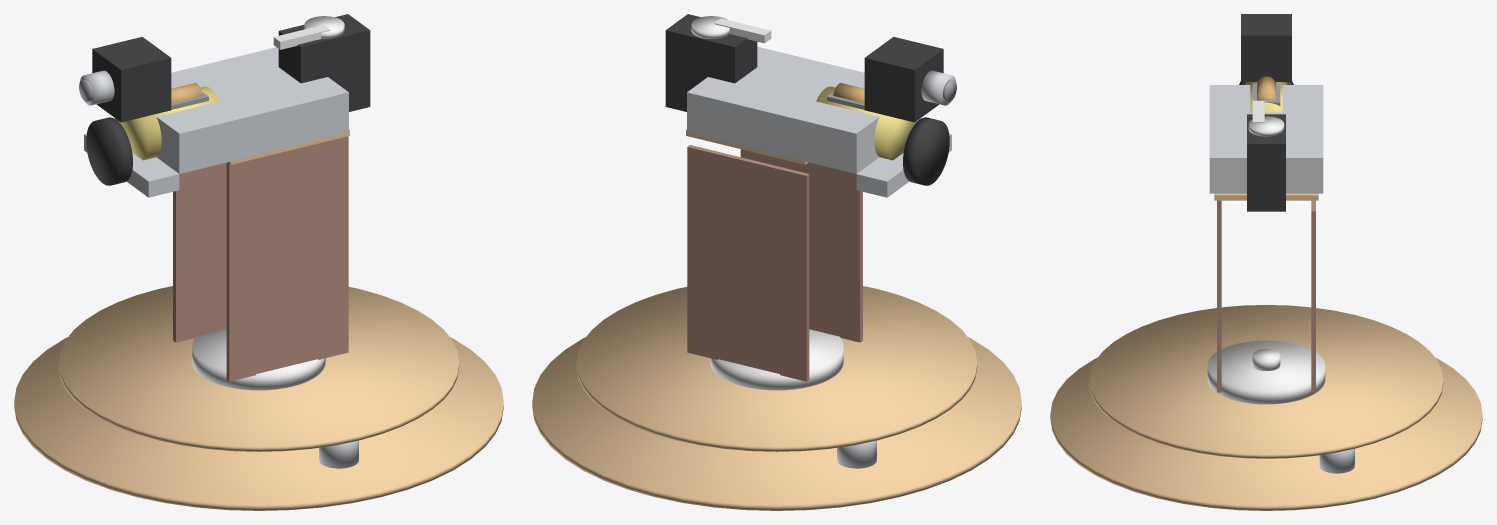
Rendered from turret.fbx.
3 views of the same model, side by side, from view 1: azimuth 30°, elevation 25°; view 2: azimuth 150°, elevation 25°; view 3: azimuth 270°, elevation 25° (orthographic). The views are drawn at different scales.
Visible parts, largest first — view 1: TRT_MidPlate, TRT_BaseDisc, TRT_UprightRear, TRT_Bracket, TRT_UprightFront, TRT_Camera, TRT_Servo, TRT_Flange, TRT_PullHook, TRT_Motor, TRT_BandLip, TRT_Caster1 (+3 smaller); view 2: TRT_MidPlate, TRT_BaseDisc, TRT_UprightFront, TRT_Bracket, TRT_UprightRear, TRT_Servo, TRT_Camera, TRT_Flange, TRT_PullHook, TRT_Motor, TRT_BandLip, TRT_Caster3 (+3 smaller); view 3: TRT_MidPlate, TRT_BaseDisc, TRT_Bracket, TRT_Flange, TRT_Camera, TRT_Servo, TRT_UprightRear, TRT_UprightFront, TRT_Caster2, TRT_FlangeHub, TRT_ServoHorn, TRT_TopRail.
Boxes of the visible parts, bbox=[...] form: TRT_MidPlate: bbox=[58, 286, 459, 451]; TRT_BaseDisc: bbox=[14, 337, 503, 510]; TRT_UprightRear: bbox=[226, 136, 348, 381]; TRT_Bracket: bbox=[115, 47, 348, 173]; TRT_UprightFront: bbox=[173, 162, 226, 342]; TRT_Camera: bbox=[92, 36, 171, 122]; TRT_Servo: bbox=[278, 14, 370, 111]; TRT_Flange: bbox=[192, 329, 325, 390]; TRT_PullHook: bbox=[86, 117, 132, 185]; TRT_Motor: bbox=[119, 86, 219, 160]; TRT_BandLip: bbox=[84, 134, 179, 197]; TRT_Caster1: bbox=[319, 440, 358, 468]; TRT_MidPlate: bbox=[576, 286, 977, 451]; TRT_BaseDisc: bbox=[532, 337, 1021, 510]; TRT_UprightFront: bbox=[687, 145, 809, 381]; TRT_Bracket: bbox=[687, 46, 920, 173]; TRT_UprightRear: bbox=[740, 149, 862, 342]; TRT_Servo: bbox=[665, 14, 757, 111]; TRT_Camera: bbox=[864, 36, 943, 122]; TRT_Flange: bbox=[710, 329, 843, 390]; TRT_PullHook: bbox=[903, 117, 949, 185]; TRT_Motor: bbox=[816, 86, 916, 160]; TRT_BandLip: bbox=[856, 134, 951, 197]; TRT_Caster3: bbox=[837, 440, 876, 468]; TRT_MidPlate: bbox=[1089, 305, 1443, 458]; TRT_BaseDisc: bbox=[1050, 357, 1482, 510]; TRT_Bracket: bbox=[1209, 85, 1323, 193]; TRT_Flange: bbox=[1207, 340, 1325, 404]; TRT_Camera: bbox=[1241, 14, 1291, 81]; TRT_Servo: bbox=[1247, 114, 1285, 211]; TRT_UprightRear: bbox=[1217, 200, 1221, 392]; TRT_UprightFront: bbox=[1311, 200, 1315, 392]; TRT_Caster2: bbox=[1319, 449, 1354, 473]; TRT_FlangeHub: bbox=[1252, 349, 1280, 371]; TRT_ServoHorn: bbox=[1248, 116, 1284, 136]; TRT_TopRail: bbox=[1214, 193, 1318, 200].
Size of the model in its own units: 22 by 19.1 by 22.
